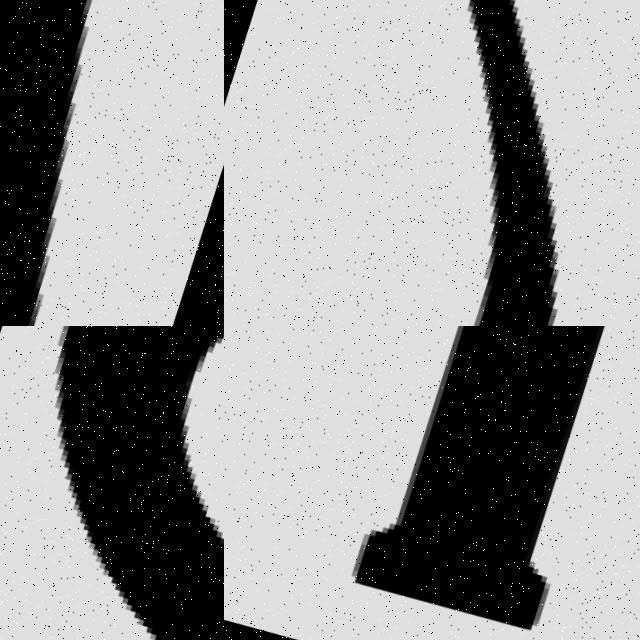7: (269, 0, 640, 326)
O: (0, 326, 224, 640)
T: (278, 326, 640, 640)
V: (0, 0, 218, 326)
